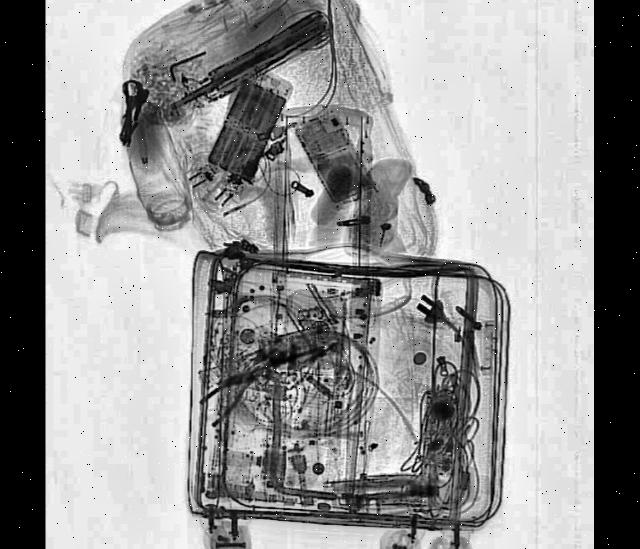Pliers: (198, 350, 271, 429)
